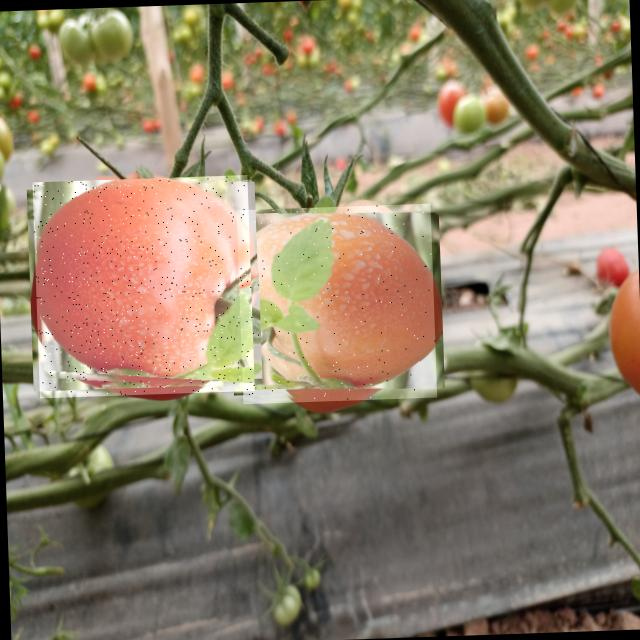Ripe Tomato: (32, 175, 254, 398), (236, 203, 437, 404)
